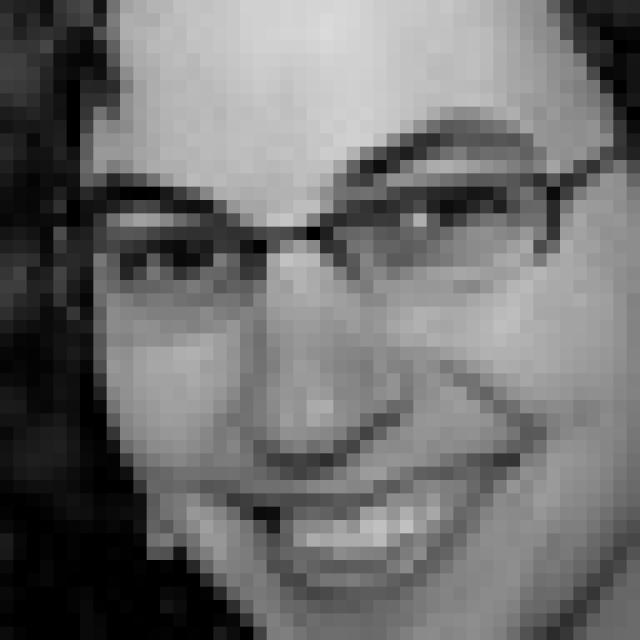happy: (89, 112, 571, 611)
